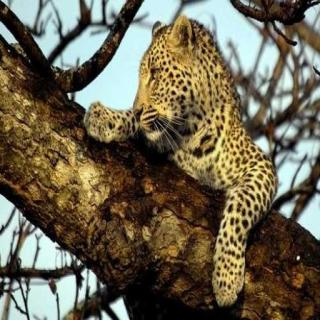Leopard: (99, 8, 313, 320)
